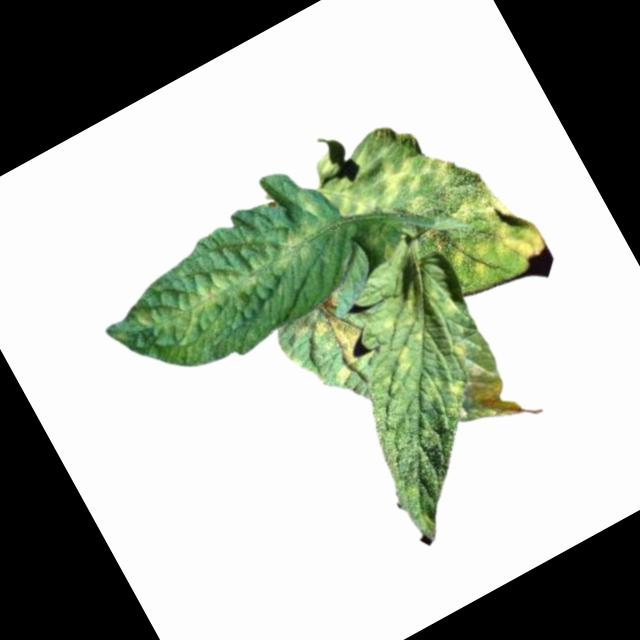Leaf_Mold: (145, 214, 340, 353), (324, 123, 461, 238), (423, 176, 546, 295), (300, 296, 383, 387), (368, 290, 444, 378), (458, 349, 533, 432), (420, 365, 476, 424), (440, 332, 471, 364)
